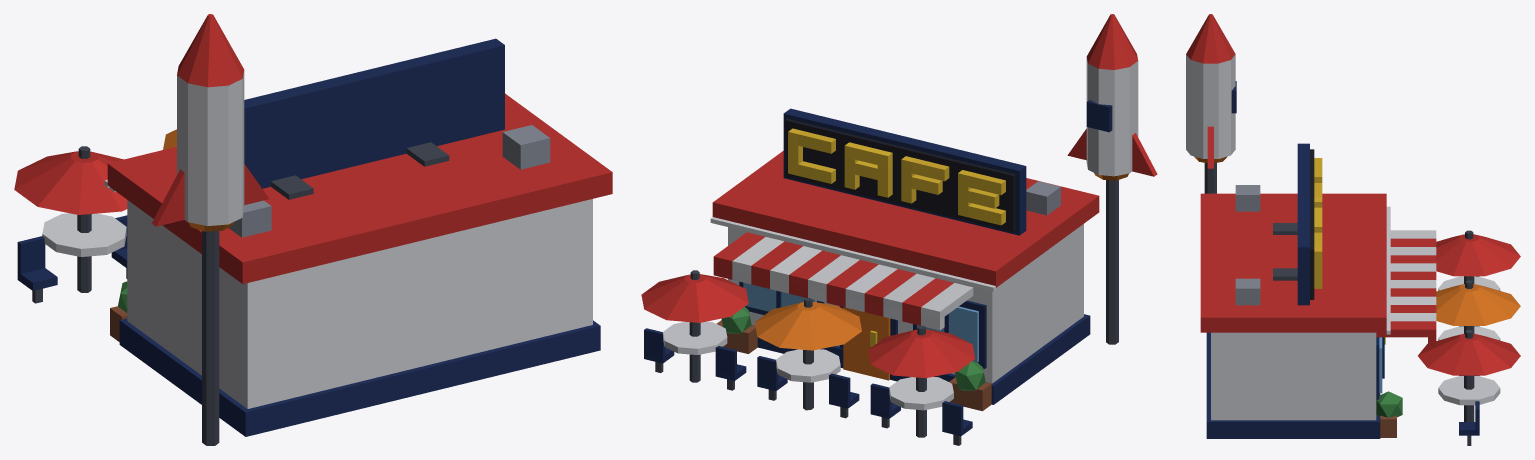
File: Decor_LaunchPad_Cafe.fbx
3 views of the same model, side by side, from view 1: azimuth 30°, elevation 25°; view 2: azimuth 150°, elevation 25°; view 3: azimuth 270°, elevation 25° (orthographic). The views are drawn at different scales.
Visible parts, largest first — view 1: Cafe_Body; view 2: Cafe_Body; view 3: Cafe_Body.
Boxes of the visible parts, bbox=[...] form: Cafe_Body: bbox=[14, 14, 612, 445]; Cafe_Body: bbox=[641, 14, 1157, 445]; Cafe_Body: bbox=[1186, 14, 1520, 445].
Bounding box in the file's own units: 18.2 × 15.7 × 16.2.
